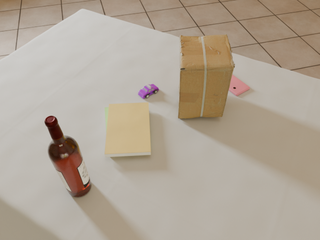book: (105, 103, 151, 157)
bottle: (45, 116, 91, 197)
box: (178, 34, 235, 119)
phone: (229, 75, 250, 96)
toy_car: (138, 84, 159, 98)
